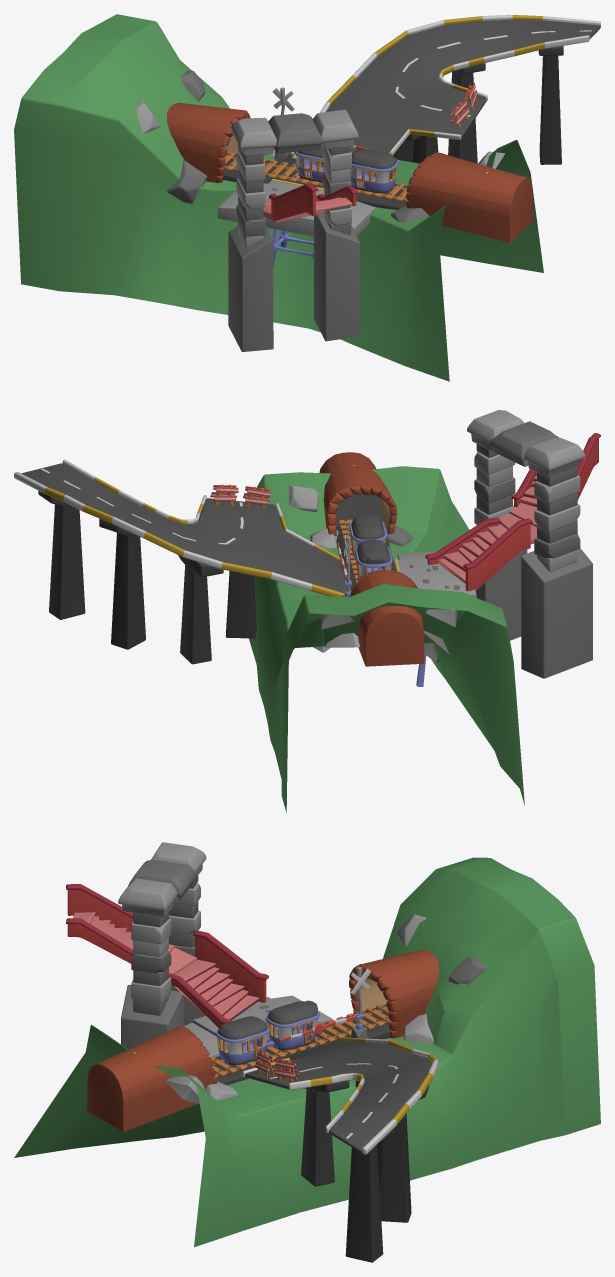
File: Train_Station.fbx
The picture shows the model from 3 angles, top to bottom: view 1: azimuth 30°, elevation 25°; view 2: azimuth 150°, elevation 25°; view 3: azimuth 270°, elevation 25°; orthographic projection. The views are drawn at different scales.
Parts seen in each view (by area): view 1: Cliff, Train; view 2: Cliff, Train; view 3: Cliff, Train.
Boxes of the visible parts, <box> form: Cliff: <box>14,14,600,381</box>; Train: <box>294,144,398,193</box>; Cliff: <box>14,410,600,812</box>; Train: <box>349,514,392,579</box>; Cliff: <box>14,842,600,1262</box>; Train: <box>215,1000,319,1065</box>.
Bounding box in the file's own units: 3804 × 1557 × 3373.
